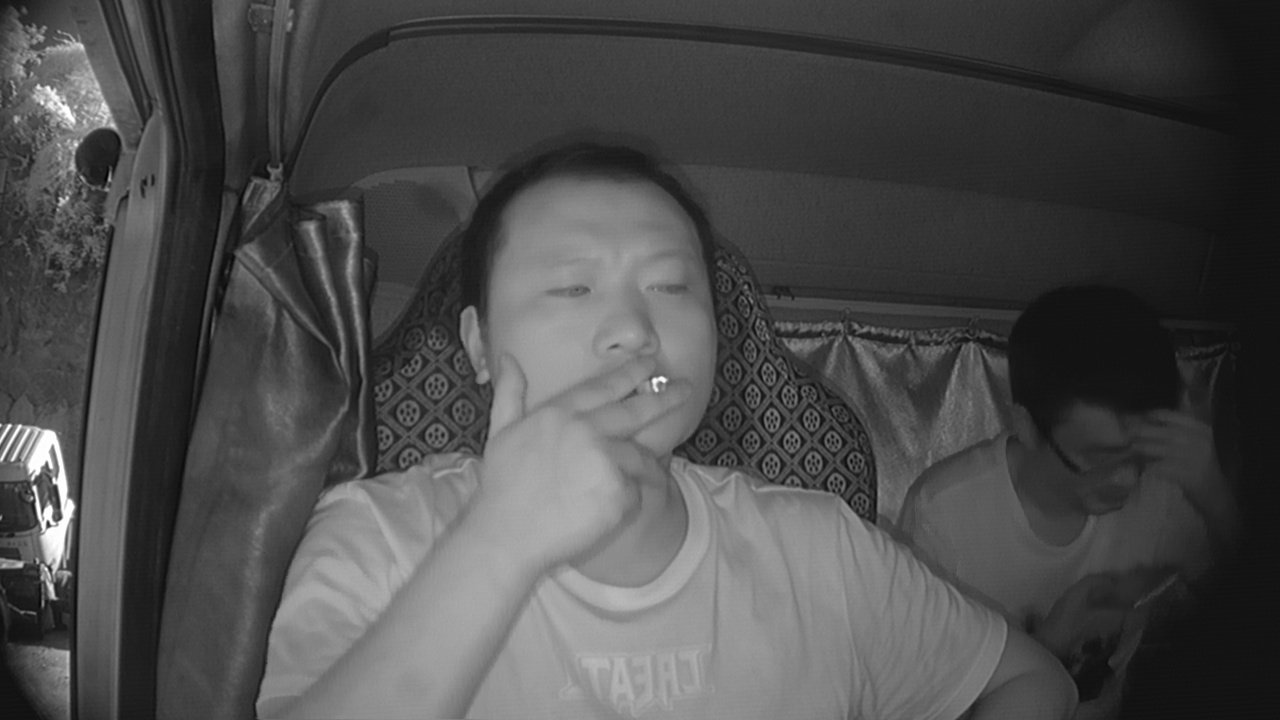hand: (551, 352, 693, 528)
